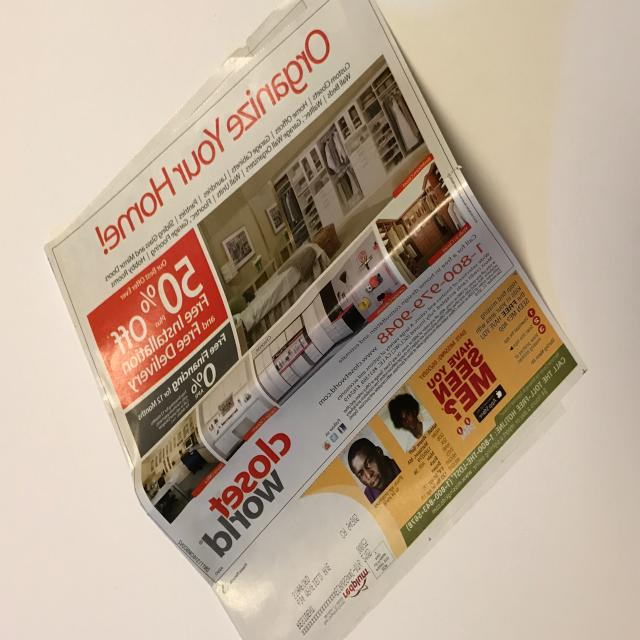paper: (35, 0, 592, 640)
